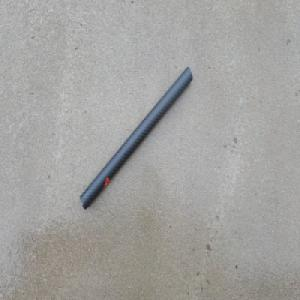LuggagePart: (78, 63, 192, 213)
